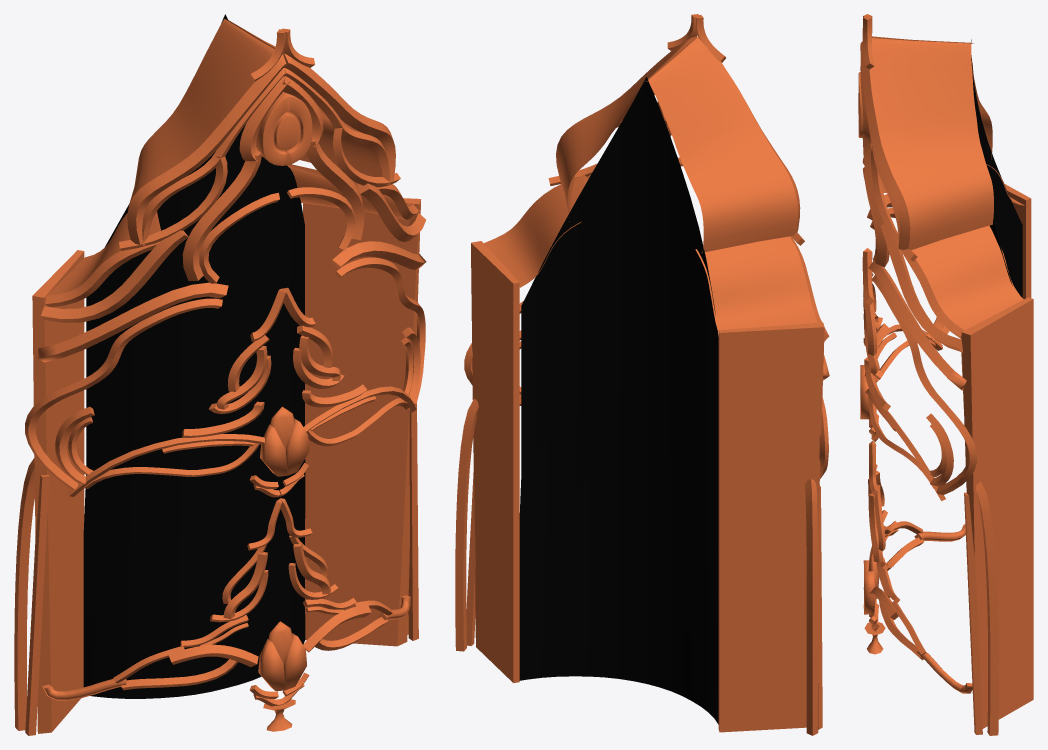
File: structureA.glb
3 renders of one model, left to right at view 1: azimuth 30°, elevation 25°; view 2: azimuth 150°, elevation 25°; view 3: azimuth 270°, elevation 25°, orthographic. The views are drawn at different scales.
Visible parts, largest first — view 1: Structure; view 2: Structure; view 3: Structure.
Boxes of the visible parts, x1,y1,x2,y2 form: Structure: (14, 14, 426, 735); Structure: (455, 14, 829, 735); Structure: (858, 14, 1033, 735).
Bounding box in the file's own units: 17.97 × 30.13 × 7.54.
